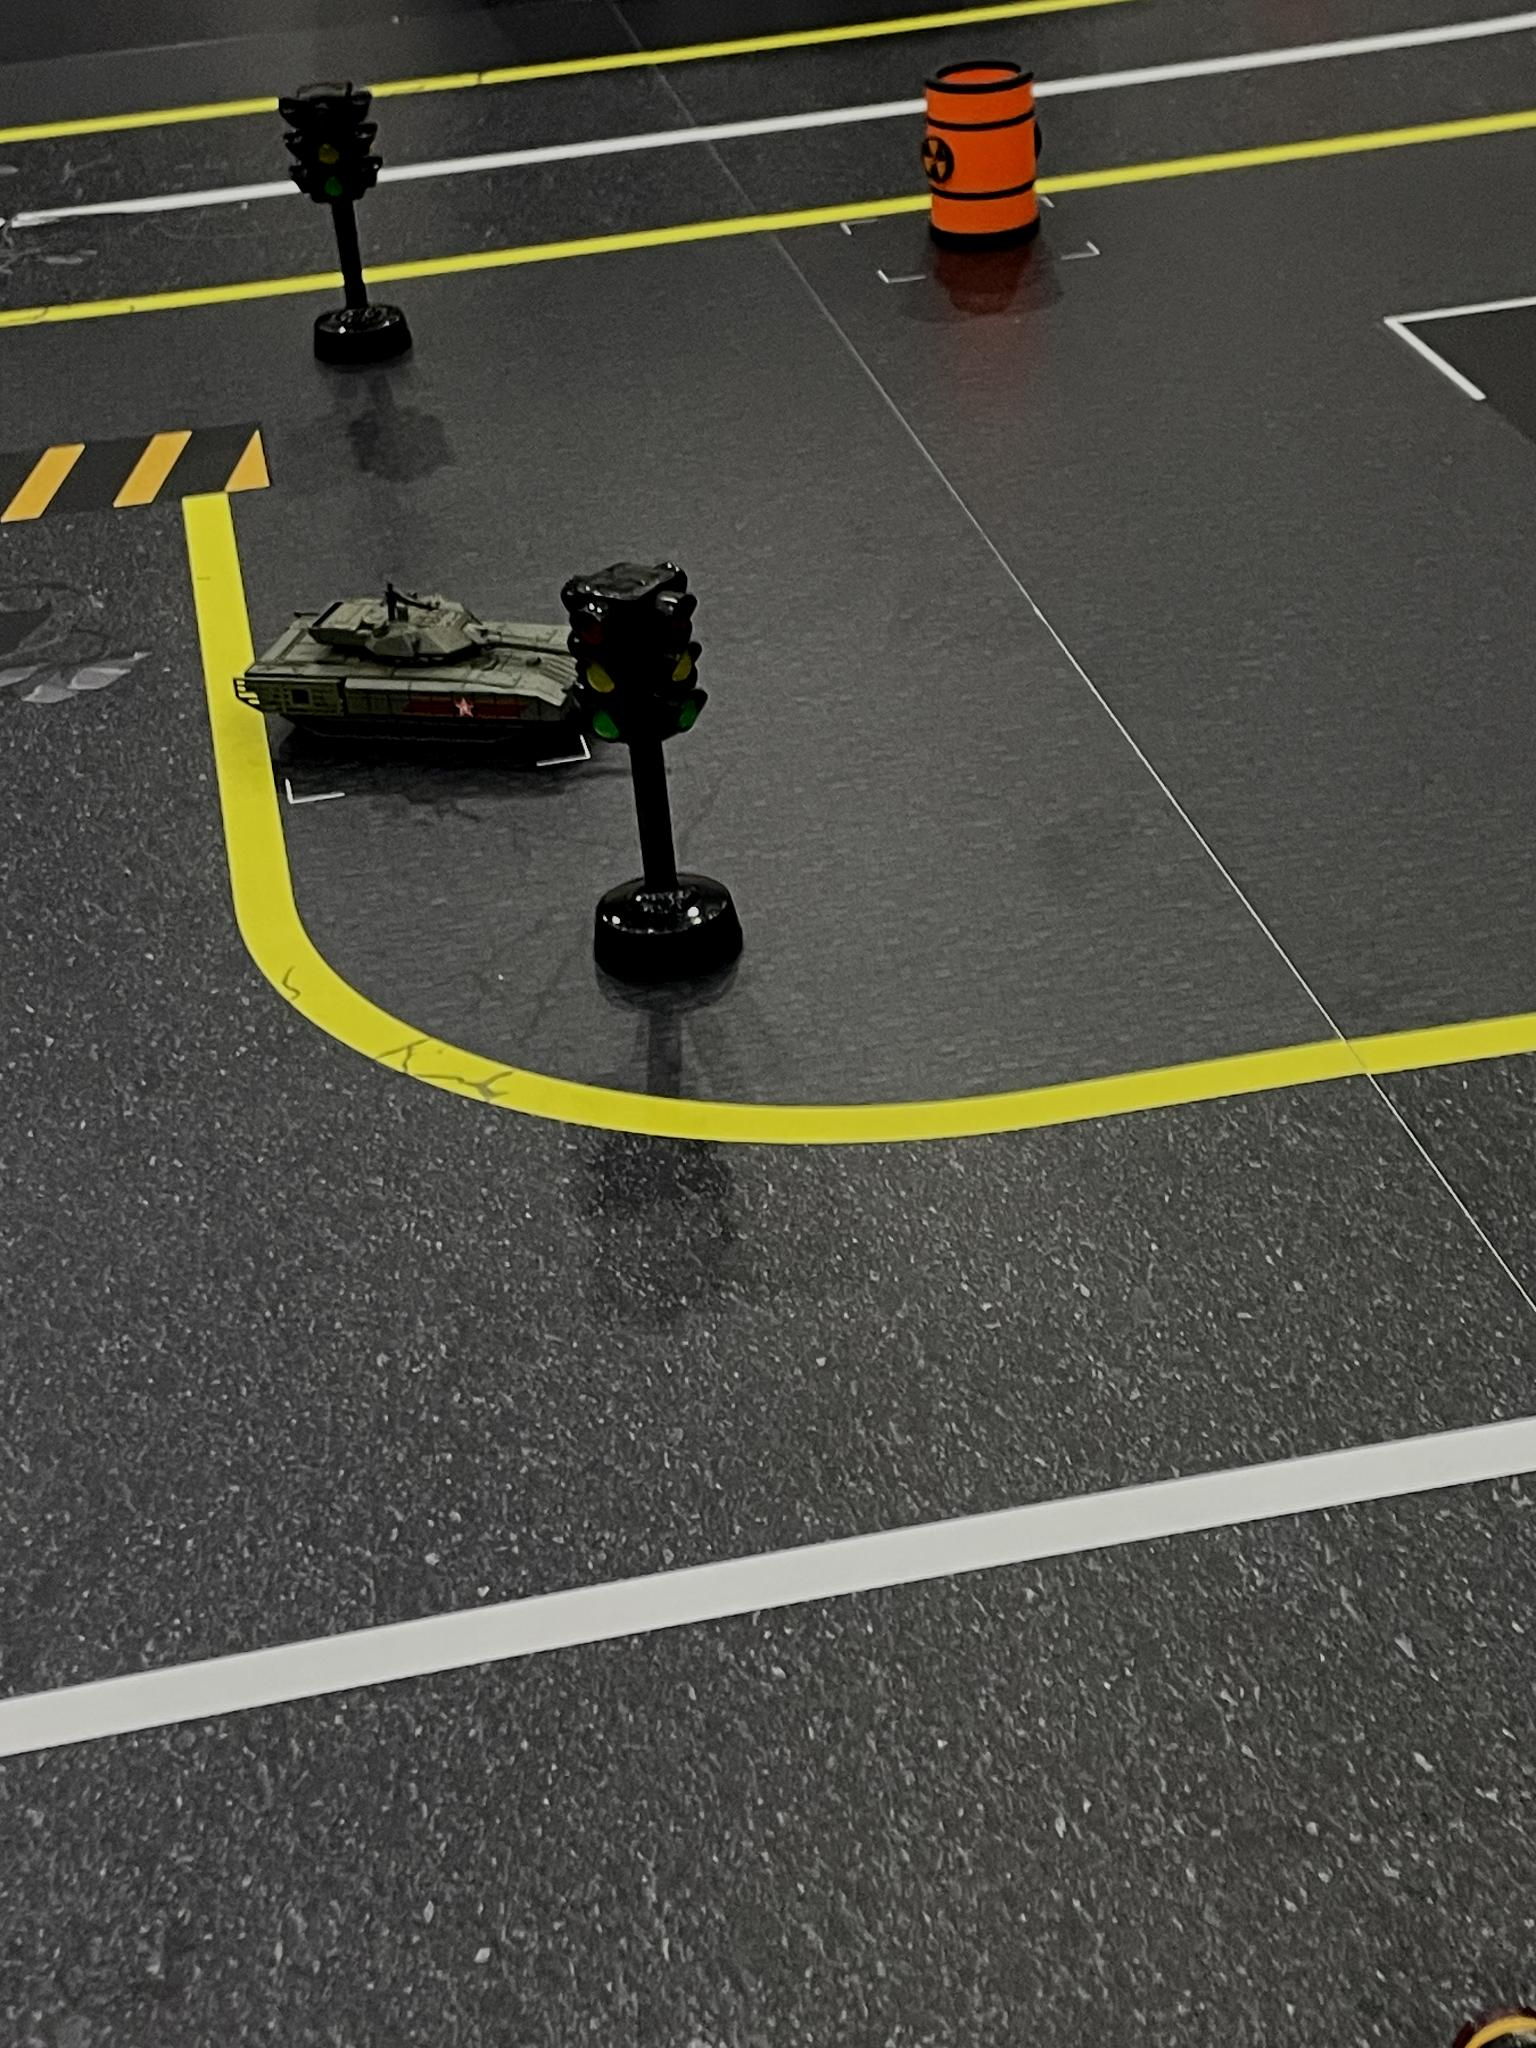Hazmat: (928, 58, 1044, 255)
Tank: (234, 597, 566, 743)
